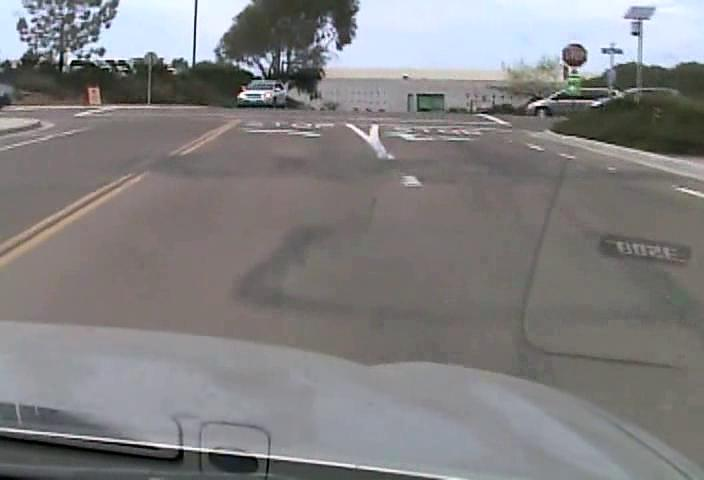stop: (561, 42, 588, 67)
